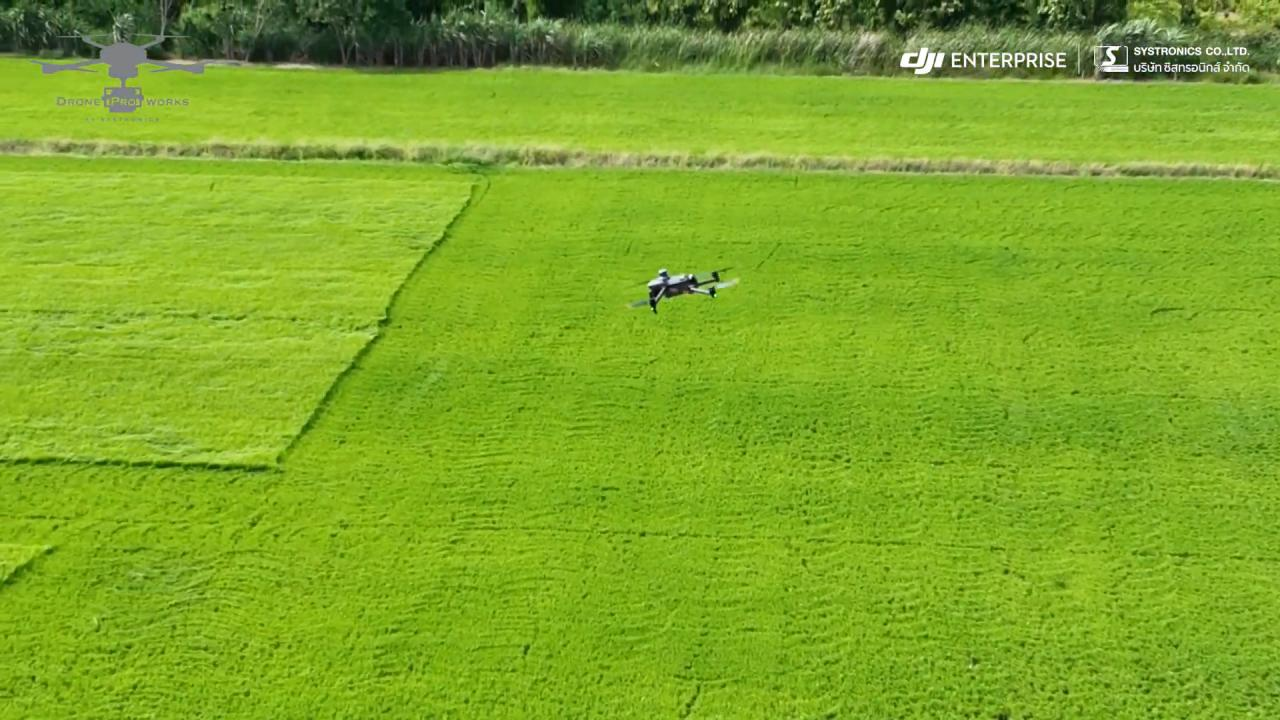Drone: (623, 256, 748, 320)
